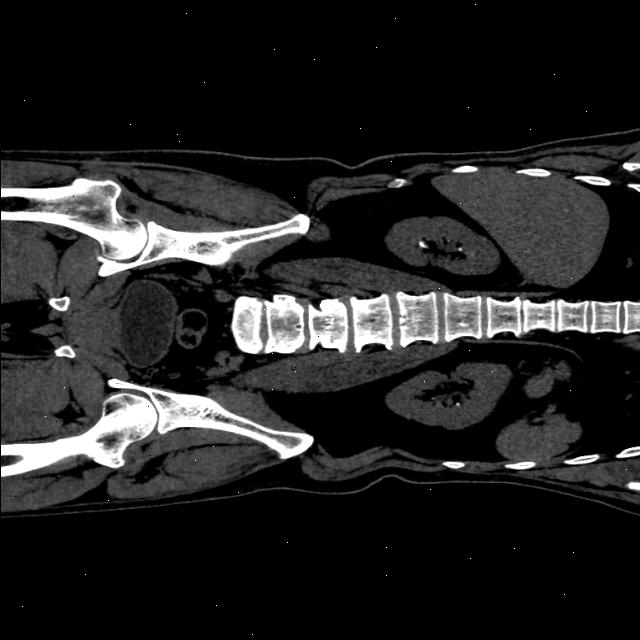kidneystone: (457, 248, 464, 251)
